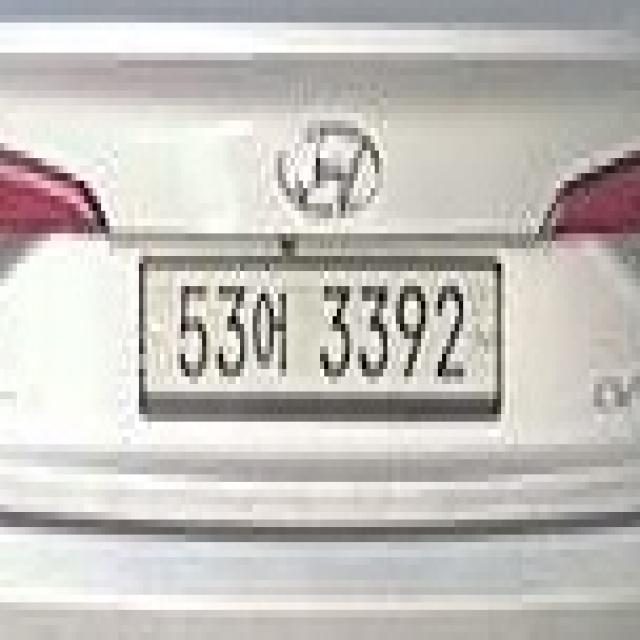2: (429, 264, 480, 399)
3: (349, 256, 396, 407), (210, 264, 252, 406), (307, 271, 354, 384)
5: (168, 271, 206, 392)
9: (396, 256, 434, 399)
eo: (248, 264, 290, 384)
license_plate: (131, 248, 505, 436)
